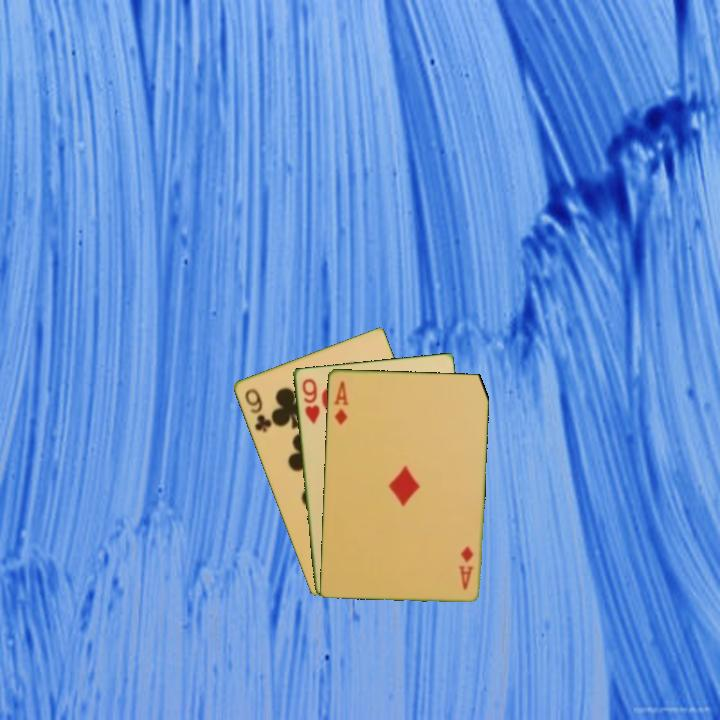9c: (241, 385, 274, 435)
9h: (298, 375, 322, 427)
Ad: (330, 377, 351, 427), (455, 542, 476, 592)
